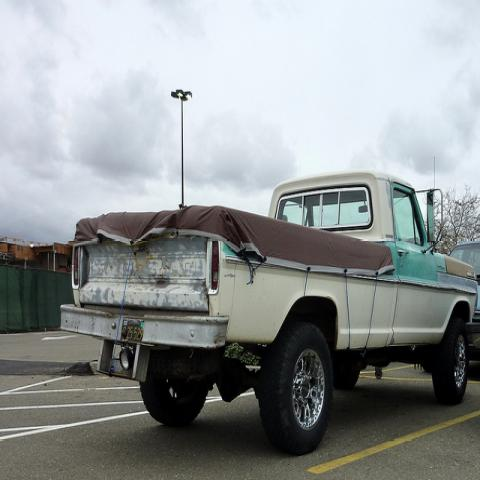car: (448, 237, 480, 322)
truck: (61, 174, 479, 456)
